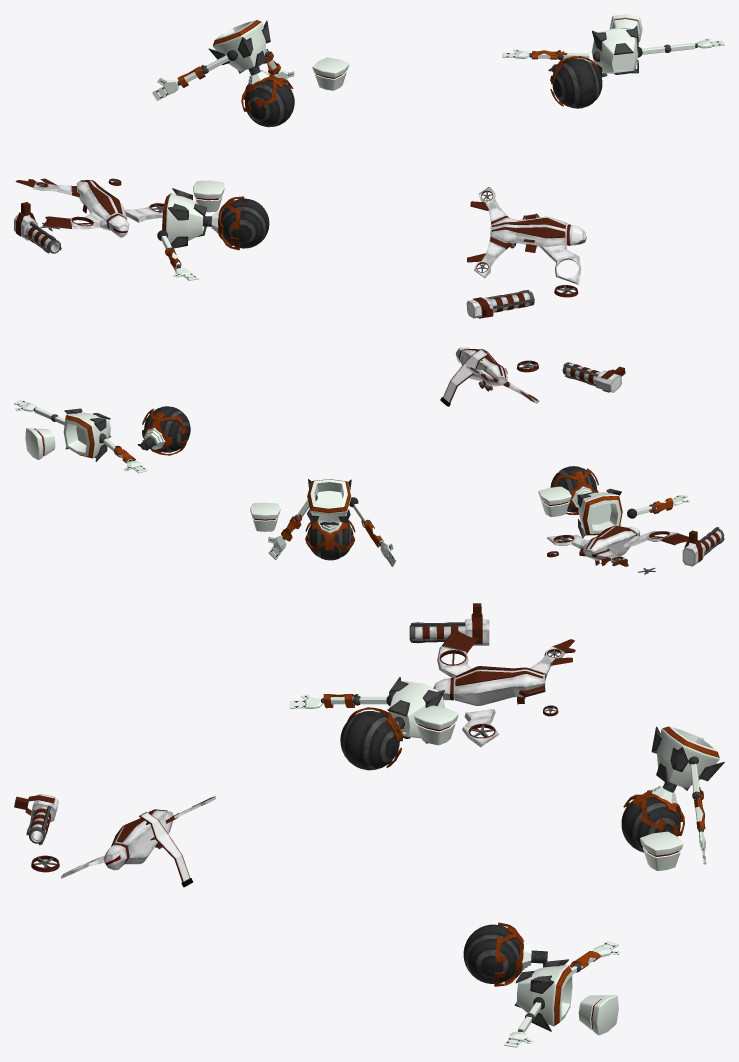
File: rotos_secun.fbx
3 renders of one model, top to bottom at view 1: azimuth 30°, elevation 25°; view 2: azimuth 150°, elevation 25°; view 3: azimuth 270°, elevation 25°, orthographic. The views are drawn at different scales.
Visible parts, largest first — view 1: Sphere.027, cuerpo.009, Sphere.036, Sphere.017, cuerpo.004, cuerpo.006, cuerpo.008, cuerpo.010, Cube.556, cuerpo.003, Cube.565, cuerpo.007 (+4 smaller); view 2: cuerpo.004, cuerpo.008, cuerpo.006, cuerpo.010, Sphere.027, Cube.556, Sphere.017, cuerpo.009, cuerpo.007, cuerpo.005, cuerpo.003, Cube.565 (+5 smaller); view 3: cuerpo.010, Sphere.036, Sphere.027, cuerpo.006, cuerpo.004, Sphere.017, cuerpo.009, Cube.565, cuerpo.005, cuerpo.007, cuerpo.003, cuerpo.008 (+5 smaller).
Boxes of the visible parts, x1,y1,x2,y2 form: Sphere.027: (552, 58, 602, 108); cuerpo.009: (490, 216, 567, 246); Sphere.036: (220, 198, 269, 248); Sphere.017: (244, 80, 294, 127); cuerpo.004: (212, 20, 265, 71); cuerpo.006: (591, 28, 638, 73); cuerpo.008: (162, 193, 204, 243); cuerpo.010: (76, 180, 127, 230); Cube.556: (466, 290, 534, 318); cuerpo.003: (312, 57, 349, 90); Cube.565: (14, 215, 61, 253); cuerpo.007: (193, 180, 224, 212); cuerpo.004: (307, 479, 351, 523); cuerpo.008: (578, 492, 622, 535); cuerpo.006: (63, 412, 110, 458); cuerpo.010: (583, 525, 636, 560); Sphere.027: (144, 406, 190, 452); Cube.556: (562, 362, 621, 392); Sphere.017: (307, 522, 353, 560); cuerpo.009: (460, 349, 507, 386); cuerpo.007: (538, 486, 571, 516); cuerpo.005: (25, 428, 55, 459); cuerpo.003: (250, 502, 280, 531); Cube.565: (682, 527, 724, 566); cuerpo.010: (454, 666, 545, 705); Sphere.036: (340, 711, 399, 770); Sphere.027: (463, 924, 520, 983); cuerpo.006: (517, 965, 572, 1026); cuerpo.004: (657, 726, 719, 788); Sphere.017: (621, 798, 680, 852); cuerpo.009: (111, 809, 173, 864); Cube.565: (409, 619, 489, 645); cuerpo.005: (578, 995, 618, 1035); cuerpo.007: (414, 705, 458, 745); cuerpo.003: (640, 831, 683, 870); cuerpo.008: (388, 681, 444, 738).
Bounding box in the file's own units: 2858 × 358 × 2051.
